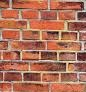brick: (29, 61, 67, 71), (13, 1, 48, 10), (11, 40, 46, 49), (48, 41, 82, 50), (50, 1, 83, 10), (12, 84, 49, 92), (30, 21, 64, 29), (49, 84, 86, 91), (1, 61, 29, 70), (1, 21, 27, 28), (23, 71, 41, 81), (41, 31, 60, 40), (69, 62, 86, 72), (2, 30, 20, 39), (59, 52, 77, 61), (4, 71, 22, 80), (41, 10, 57, 20), (21, 31, 41, 39), (41, 50, 57, 60), (59, 10, 76, 19), (22, 50, 39, 59), (67, 22, 86, 30), (21, 10, 39, 18), (3, 51, 21, 59), (43, 73, 59, 82), (61, 32, 78, 40), (61, 74, 78, 82), (1, 10, 19, 17), (1, 82, 12, 92), (77, 11, 86, 20), (77, 52, 86, 61), (1, 40, 10, 48), (1, 1, 10, 7), (79, 32, 86, 39), (80, 73, 86, 80)
